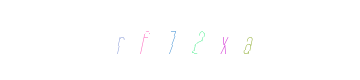2: (158, 0, 238, 80)
7: (139, 0, 219, 80)
A: (208, 0, 288, 80)
F: (138, 0, 218, 80)
R: (110, 0, 190, 80)
X: (180, 0, 260, 80)
